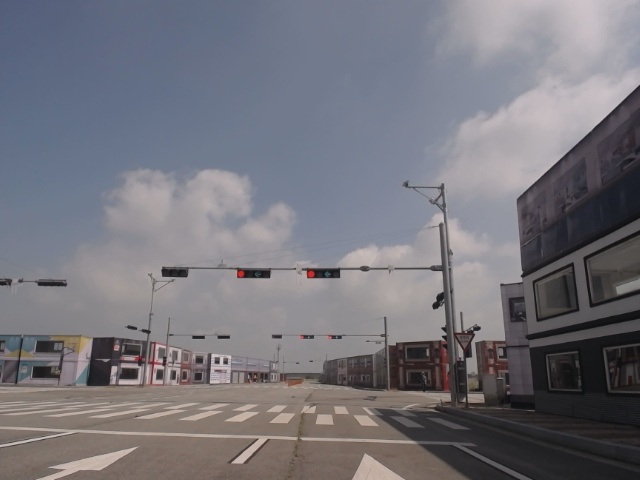left_green_4: (237, 269, 271, 279), (307, 269, 340, 278)
